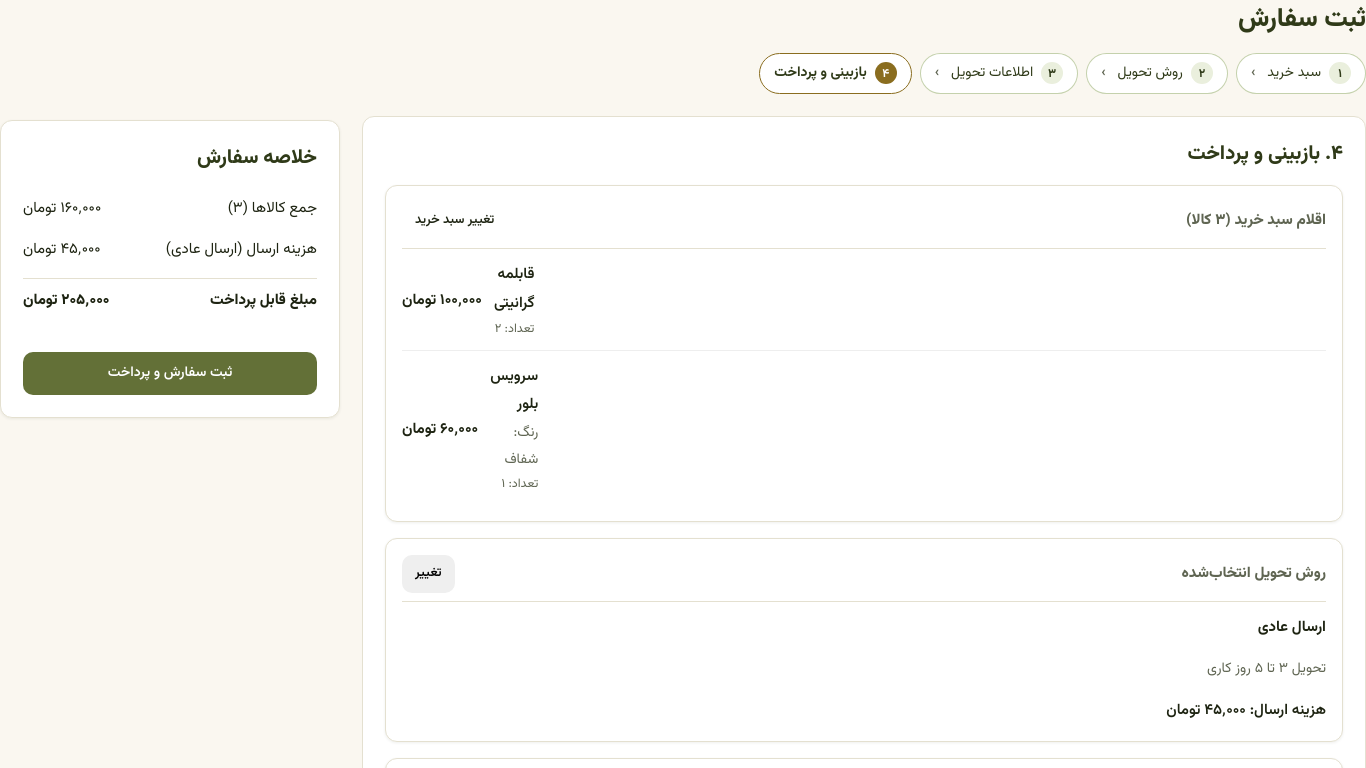
it: checkout final amount (item 3) › shows the server-computed «مبلغ قابل پرداخت» before the payment step
Expected: the heading "ثبت سفارش" is shown, [1238,0,1365,40]
Expected: the element with class "checkout__summary" is shown, [0,120,340,419]
Click the button "ثبت سفارش و پرداخت": [170, 374] box [23,352,317,396]
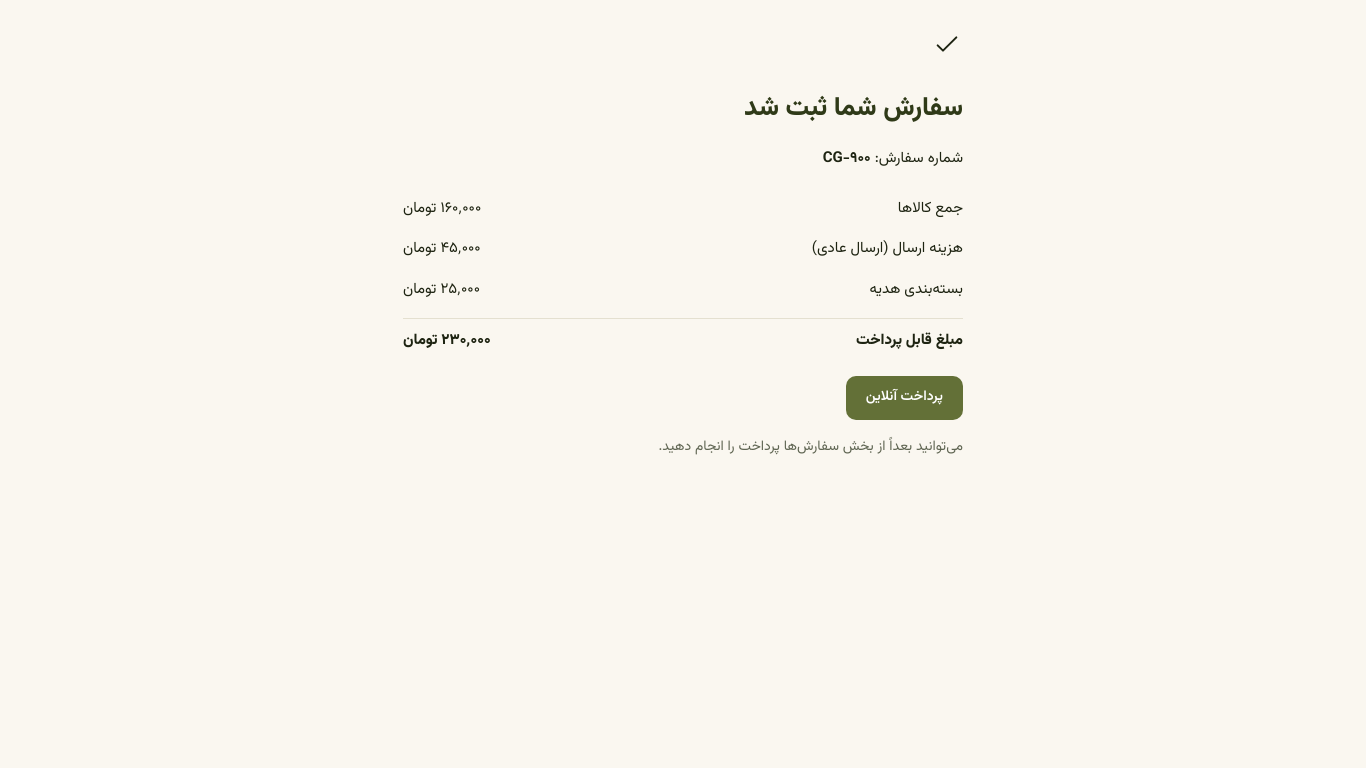
Now the heading "سفارش شما ثبت شد" is shown, box [744,88,963,129]
Now the element with class "checkout-done__totals" shows "بسته‌بندی هدیه", box [870,278,963,301]
Now the element with class "checkout-done__totals" shows "مبلغ قابل پرداخت", box [856,329,963,352]
